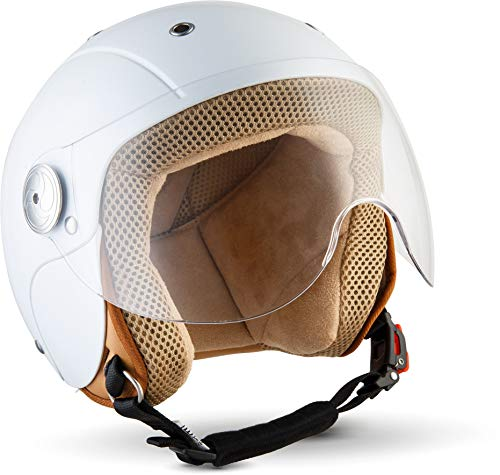with_helmet: (1, 1, 444, 400)
